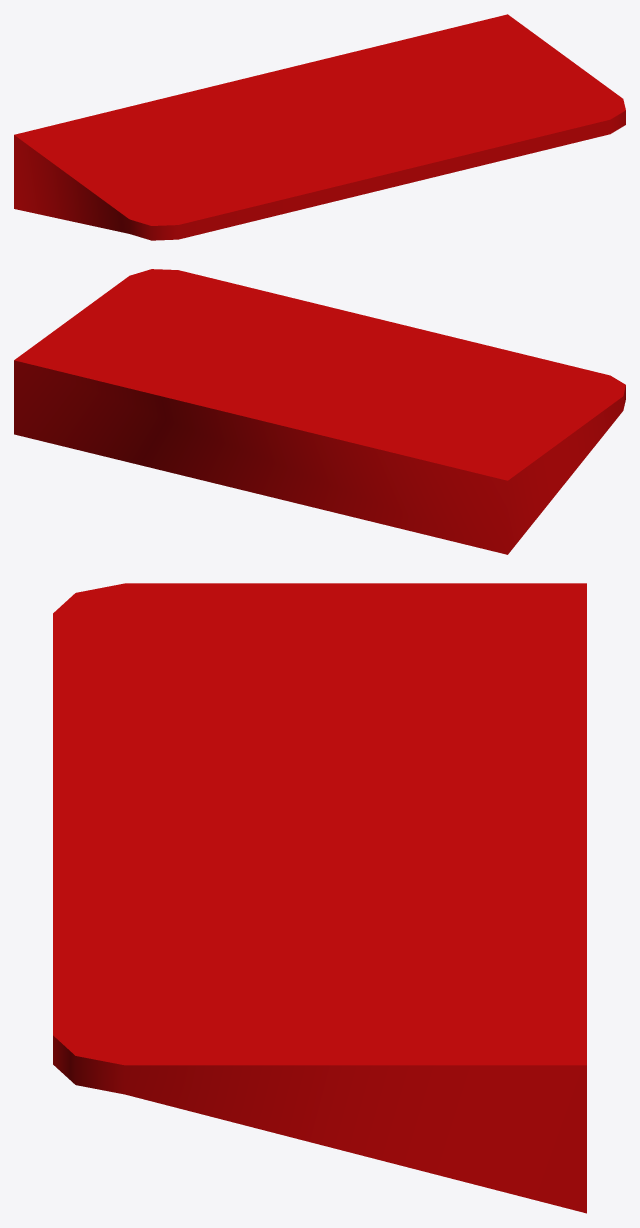
The model's file is UCX_shelf_metal.fbx.
The picture shows the model from 3 angles, top to bottom: view 1: azimuth 30°, elevation 25°; view 2: azimuth 150°, elevation 25°; view 3: azimuth 270°, elevation 25°; orthographic projection. The views are drawn at different scales.
Visible parts, largest first — view 1: UCX_shelf_metal; view 2: UCX_shelf_metal; view 3: UCX_shelf_metal.
Part boxes in pixels (<box>): UCX_shelf_metal: <box>14,14,625,240</box>; UCX_shelf_metal: <box>14,269,625,554</box>; UCX_shelf_metal: <box>53,583,586,1213</box>.
Bounding box in the file's own units: 0.8002 × 0.1147 × 0.3748.
